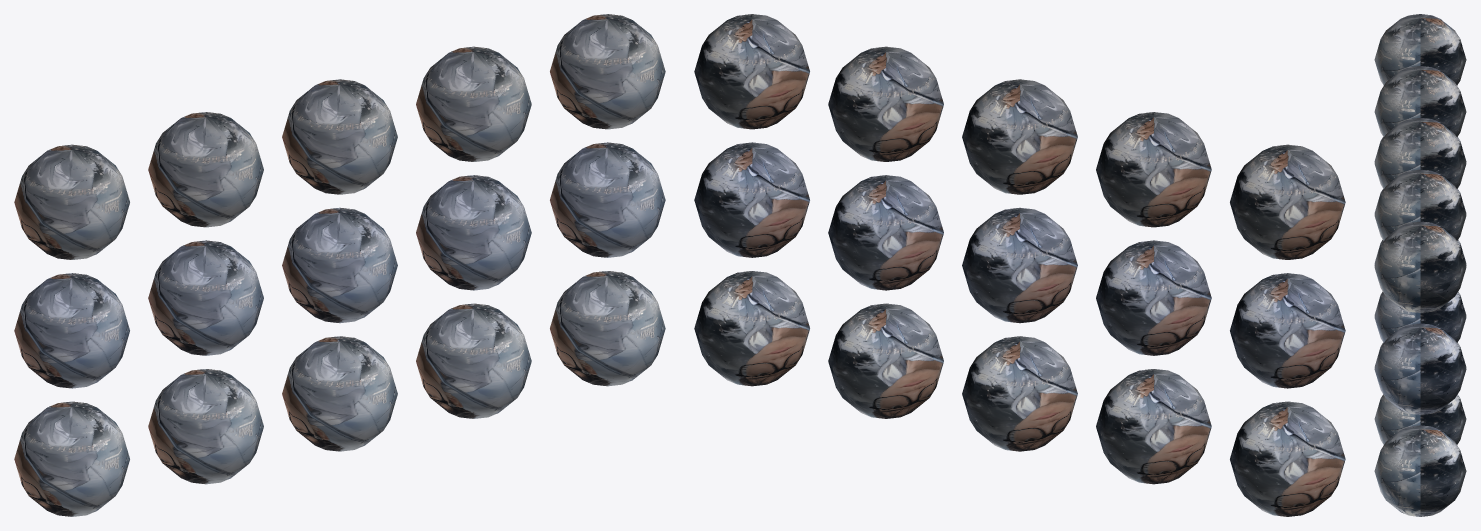
File: material_ball_validation_fixture.gltf
The picture shows the model from 3 angles, left to right: view 1: azimuth 30°, elevation 25°; view 2: azimuth 150°, elevation 25°; view 3: azimuth 270°, elevation 25°; orthographic projection. The views are drawn at different scales.
Visible parts, largest first — view 1: Node_MB_M00_R050, Node_MB_M50_R050, Node_MB_M100_R050, Node_MB_M50_R025, Node_MB_M50_R075, Node_MB_M00_R025, Node_MB_M00_R075, Node_MB_M100_R025, Node_MB_M100_R075, Node_MB_M50_R005, Node_MB_M50_R100, Node_MB_M00_R100 (+3 smaller); view 2: Node_MB_M00_R050, Node_MB_M50_R050, Node_MB_M100_R050, Node_MB_M50_R025, Node_MB_M50_R075, Node_MB_M00_R025, Node_MB_M00_R075, Node_MB_M100_R025, Node_MB_M100_R075, Node_MB_M50_R005, Node_MB_M50_R100, Node_MB_M00_R100 (+3 smaller); view 3: Node_MB_M00_R100, Node_MB_M100_R100, Node_MB_M50_R100, Node_MB_M00_R075, Node_MB_M00_R005, Node_MB_M00_R025, Node_MB_M00_R050, Node_MB_M50_R075, Node_MB_M100_R075.
Part boxes in pixels (left/top/right/bottom): Node_MB_M00_R050: left=282, top=79, right=397, bottom=194; Node_MB_M50_R050: left=282, top=207, right=397, bottom=323; Node_MB_M100_R050: left=282, top=336, right=397, bottom=451; Node_MB_M50_R025: left=148, top=240, right=263, bottom=355; Node_MB_M50_R075: left=416, top=175, right=531, bottom=290; Node_MB_M00_R025: left=148, top=112, right=263, bottom=227; Node_MB_M00_R075: left=416, top=46, right=531, bottom=161; Node_MB_M100_R025: left=148, top=369, right=263, bottom=484; Node_MB_M100_R075: left=416, top=303, right=531, bottom=418; Node_MB_M50_R005: left=14, top=273, right=129, bottom=388; Node_MB_M50_R100: left=550, top=142, right=665, bottom=257; Node_MB_M00_R100: left=550, top=14, right=665, bottom=129; Node_MB_M00_R050: left=962, top=79, right=1077, bottom=194; Node_MB_M50_R050: left=962, top=207, right=1077, bottom=323; Node_MB_M100_R050: left=962, top=336, right=1077, bottom=451; Node_MB_M50_R025: left=1096, top=240, right=1211, bottom=355; Node_MB_M50_R075: left=828, top=175, right=943, bottom=290; Node_MB_M00_R025: left=1096, top=112, right=1211, bottom=227; Node_MB_M00_R075: left=828, top=46, right=943, bottom=161; Node_MB_M100_R025: left=1096, top=369, right=1211, bottom=484; Node_MB_M100_R075: left=828, top=303, right=943, bottom=418; Node_MB_M50_R005: left=1230, top=273, right=1345, bottom=388; Node_MB_M50_R100: left=694, top=142, right=809, bottom=257; Node_MB_M00_R100: left=694, top=14, right=809, bottom=129; Node_MB_M00_R100: left=1374, top=221, right=1466, bottom=312; Node_MB_M100_R100: left=1374, top=425, right=1466, bottom=516; Node_MB_M50_R100: left=1374, top=323, right=1466, bottom=414; Node_MB_M00_R075: left=1374, top=169, right=1466, bottom=240; Node_MB_M00_R005: left=1374, top=14, right=1466, bottom=85; Node_MB_M00_R025: left=1374, top=66, right=1466, bottom=137; Node_MB_M00_R050: left=1374, top=117, right=1466, bottom=188; Node_MB_M50_R075: left=1374, top=292, right=1466, bottom=342; Node_MB_M100_R075: left=1374, top=394, right=1466, bottom=444.
Bounding box in the file's own units: 5.7 × 3.1 × 0.9.
Materials: 15 (15 with a texture image).
